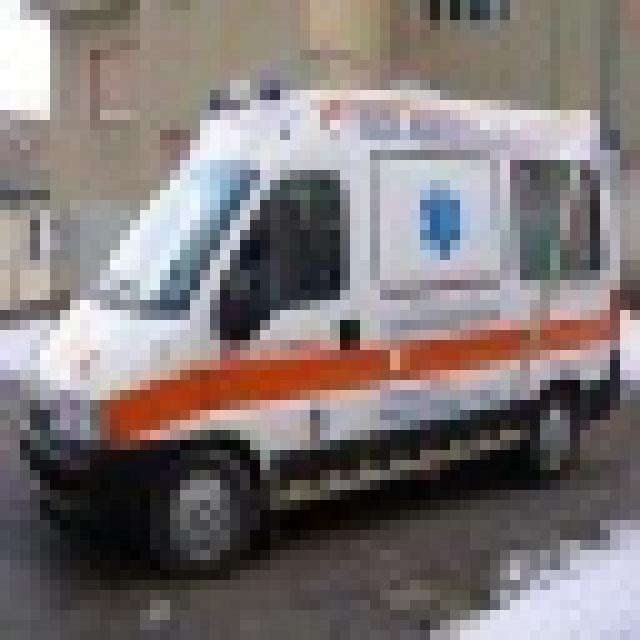Ambulance: (10, 70, 620, 570)
